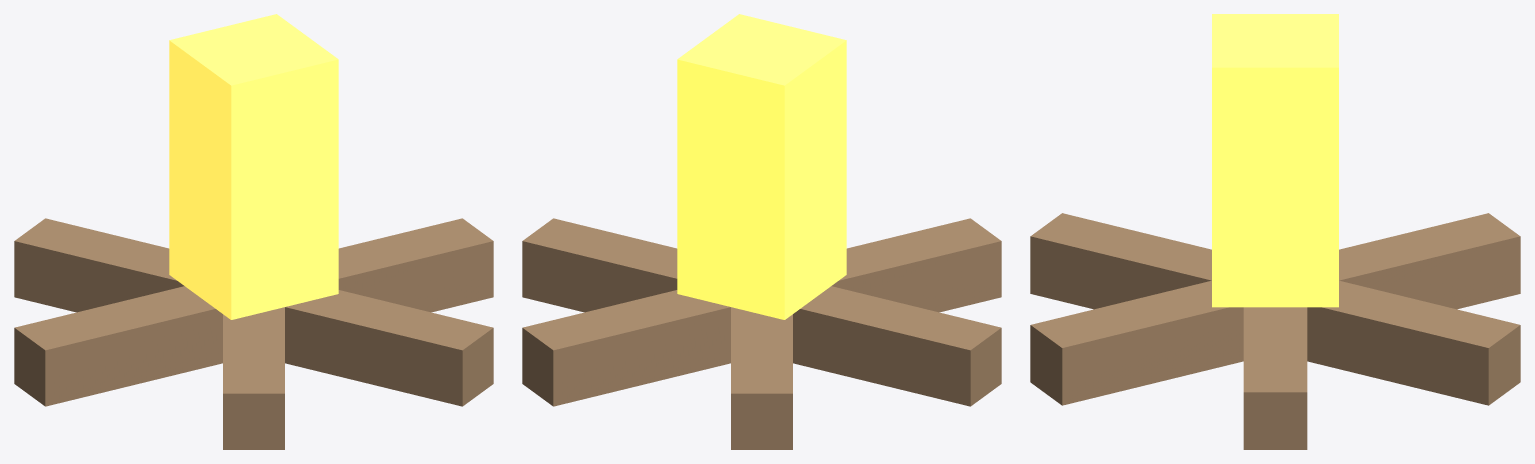
The model's file is campfire-named.glb.
The picture shows the model from 3 angles, left to right: view 1: azimuth 30°, elevation 25°; view 2: azimuth 150°, elevation 25°; view 3: azimuth 270°, elevation 25°; orthographic projection. The views are drawn at different scales.
Visible parts, largest first — view 1: Flame, Log_1, Log_2, Log_3; view 2: Flame, Log_1, Log_3, Log_2; view 3: Flame, Log_2, Log_3, Log_1.
Boxes of the visible parts, x1=… form: Flame: x1=169, y1=14, x2=338, y2=319; Log_1: x1=14, y1=218, x2=493, y2=406; Log_2: x1=14, y1=218, x2=493, y2=406; Log_3: x1=223, y1=307, x2=284, y2=449; Flame: x1=677, y1=14, x2=846, y2=319; Log_1: x1=522, y1=218, x2=1001, y2=406; Log_3: x1=522, y1=218, x2=1001, y2=406; Log_2: x1=731, y1=307, x2=792, y2=449; Flame: x1=1212, y1=14, x2=1338, y2=307; Log_2: x1=1030, y1=213, x2=1520, y2=405; Log_3: x1=1030, y1=213, x2=1520, y2=405; Log_1: x1=1243, y1=307, x2=1307, y2=449.
Bounding box in the file's own units: 1 × 0.62 × 0.926.
